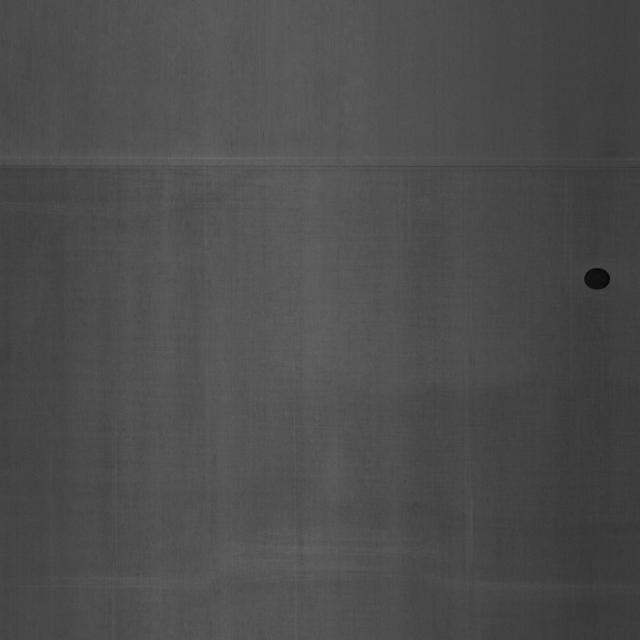crease: (2, 136, 638, 187)
crescent_gap: (580, 259, 614, 298)
